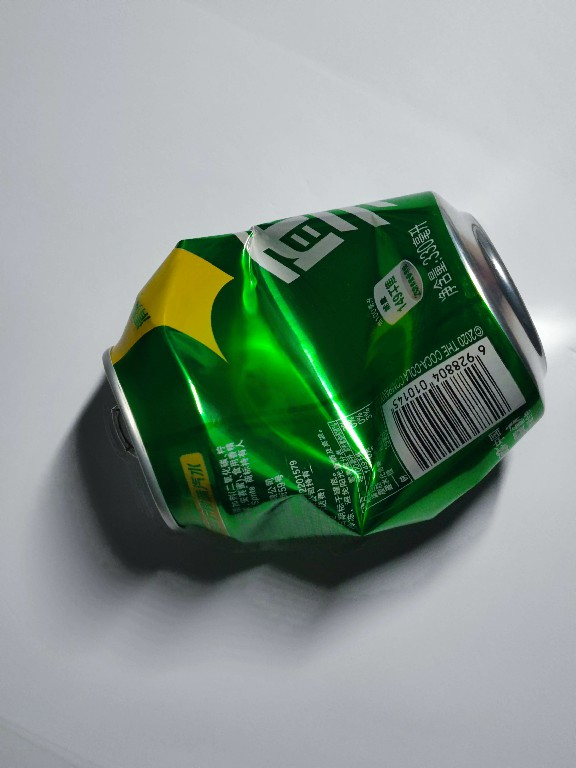can: (86, 181, 554, 554)
